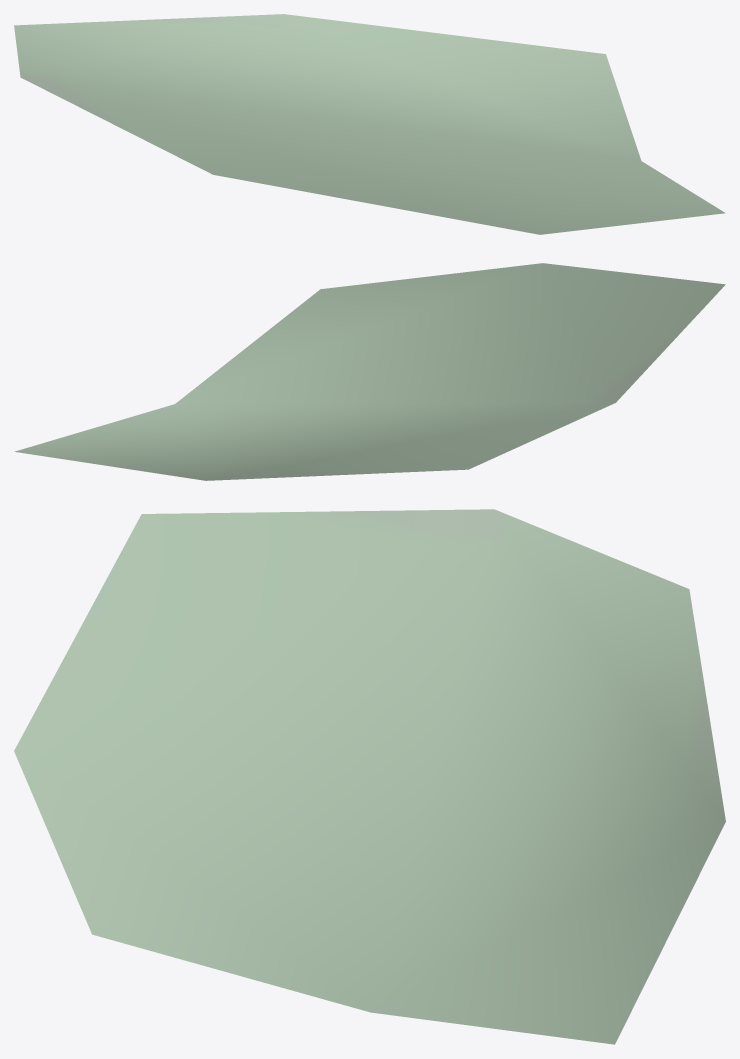
The model's file is TROLLHOLE02_HOLECAP103.fbx.
3 views of the same model, one above another, from view 1: azimuth 30°, elevation 25°; view 2: azimuth 150°, elevation 25°; view 3: azimuth 270°, elevation 25° (orthographic). The views are drawn at different scales.
Parts seen in each view (by area): view 1: TROLLHOLE02_HOLECAP103; view 2: TROLLHOLE02_HOLECAP103; view 3: TROLLHOLE02_HOLECAP103.
Part boxes in pixels (bbox=[...]): TROLLHOLE02_HOLECAP103: bbox=[14, 14, 725, 234]; TROLLHOLE02_HOLECAP103: bbox=[14, 263, 725, 480]; TROLLHOLE02_HOLECAP103: bbox=[14, 509, 725, 1044].
Size of the model in its own units: 22719 by 6512 by 19828.
1 material, 1 textured.
